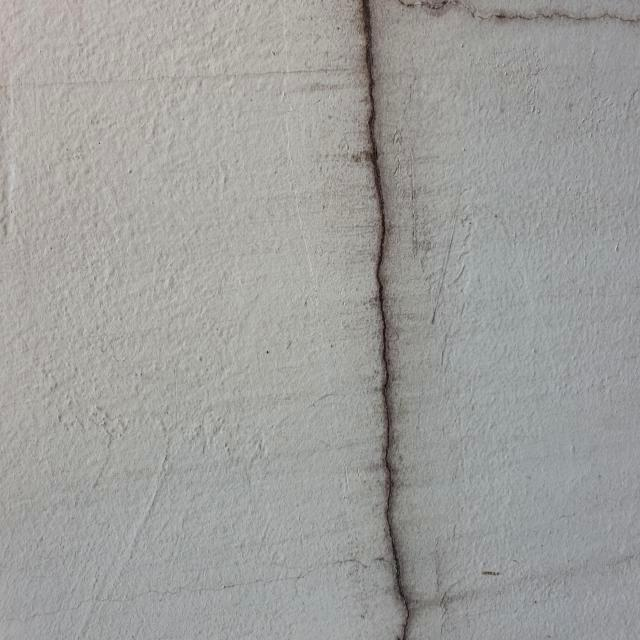SurfaceCrack: (321, 80, 447, 640)
